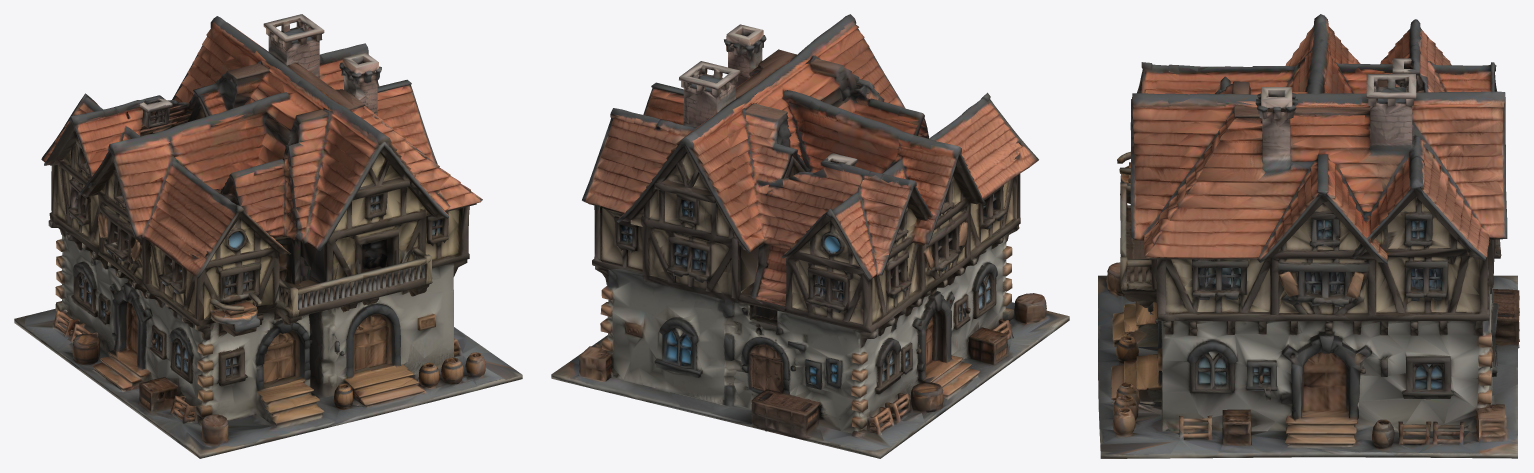
Rendered from A_modular_medieval_ho.glb.
3 renders of one model, left to right at view 1: azimuth 30°, elevation 25°; view 2: azimuth 150°, elevation 25°; view 3: azimuth 270°, elevation 25°, orthographic. The views are drawn at different scales.
Visible parts, largest first — view 1: A_modular_medieval_ho; view 2: A_modular_medieval_ho; view 3: A_modular_medieval_ho.
Boxes of the visible parts, x1=… form: A_modular_medieval_ho: x1=14, y1=14, x2=522, y2=458; A_modular_medieval_ho: x1=551, y1=14, x2=1069, y2=458; A_modular_medieval_ho: x1=1098, y1=14, x2=1519, y2=458.
Bounding box in the file's own units: 2 × 1.67 × 2.
Materials: 1 (1 with a texture image).
